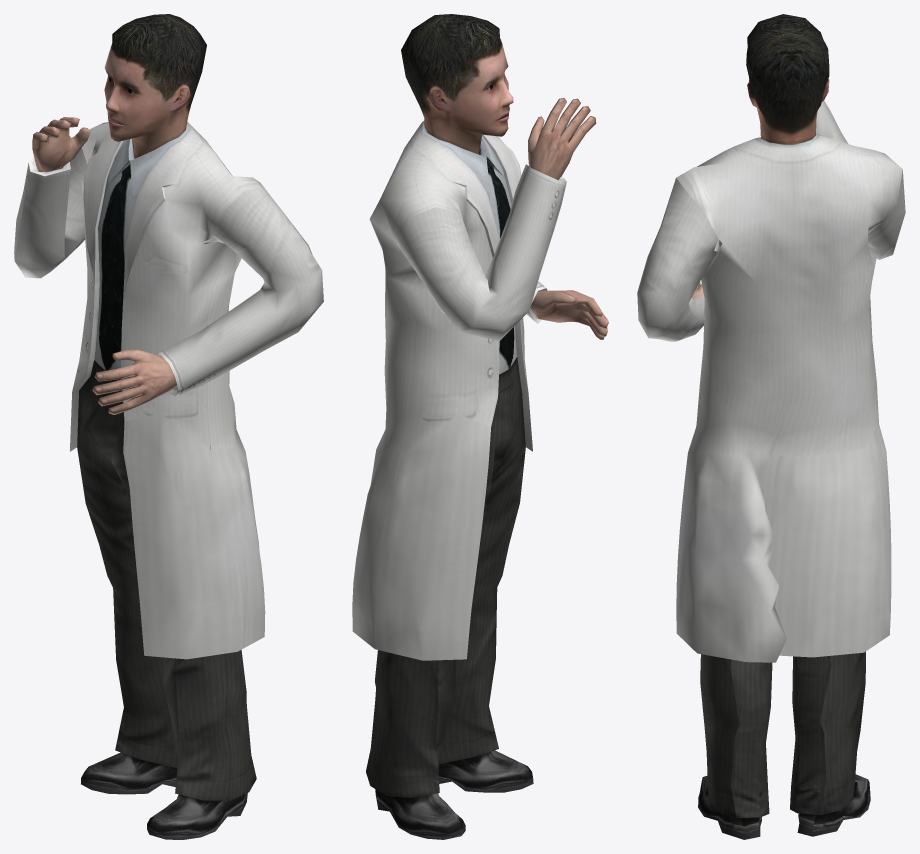
The model's file is doctor.glb.
3 renders of one model, left to right at view 1: azimuth 30°, elevation 25°; view 2: azimuth 150°, elevation 25°; view 3: azimuth 270°, elevation 25°, orthographic.
Visible parts, largest first — view 1: 人083ok; view 2: 人083ok; view 3: 人083ok.
Boxes of the visible parts, <box> form: 人083ok: <box>14,14,323,839</box>; 人083ok: <box>352,14,608,839</box>; 人083ok: <box>637,14,905,839</box>.
Size of the model in its own units: 0.5557 by 1.83 by 0.5683.
1 material, 1 textured.
